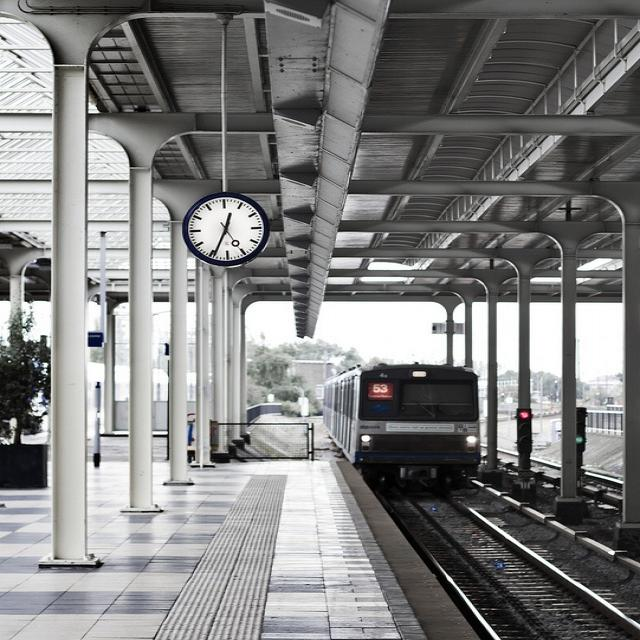pole: (39, 68, 104, 565), (111, 160, 168, 512), (160, 218, 198, 481), (549, 260, 584, 517), (510, 273, 537, 486)
